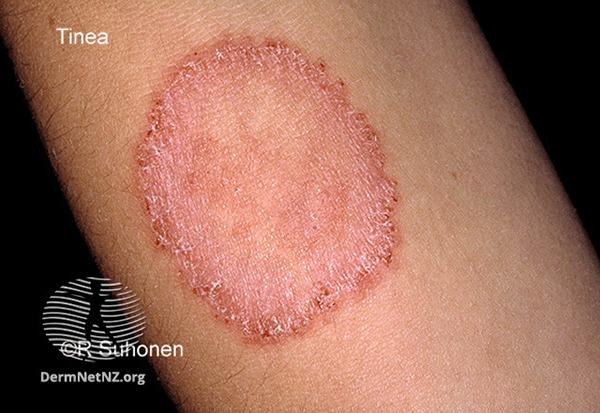Ringworm: (52, 61, 222, 106)
